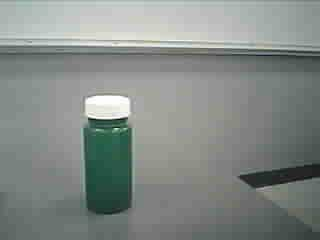Bottle C: (70, 89, 146, 219)
